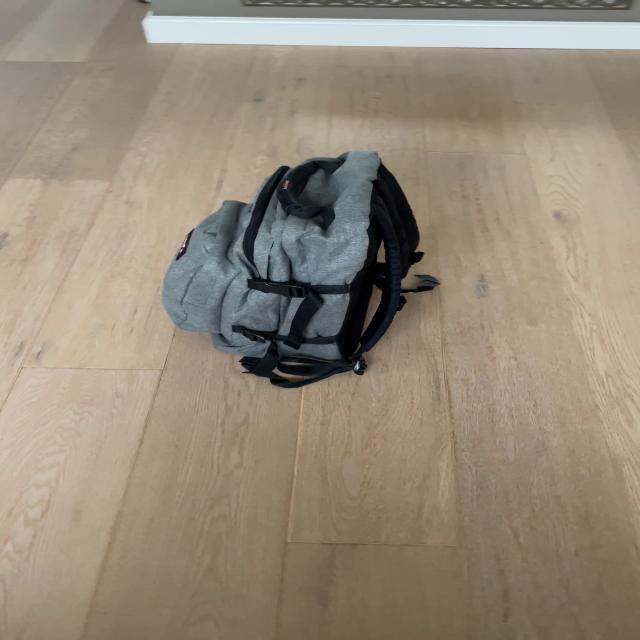backpack: (150, 137, 433, 395)
